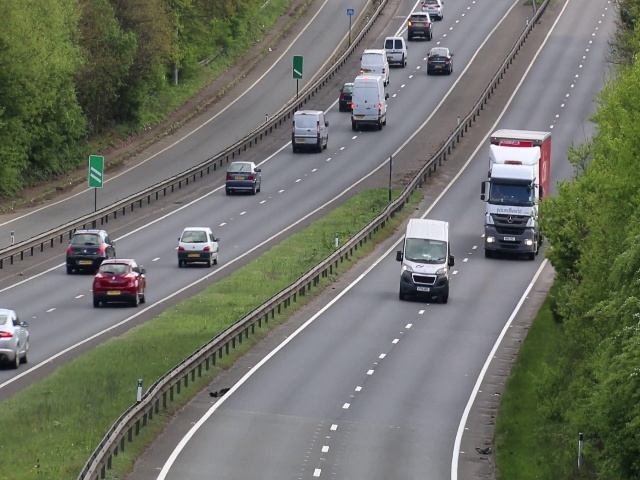car: (481, 128, 551, 262), (398, 215, 450, 307), (92, 259, 147, 310), (64, 229, 116, 273), (352, 75, 387, 132), (177, 225, 220, 267), (1, 308, 29, 366), (292, 109, 330, 151), (226, 161, 262, 196), (426, 46, 454, 76), (384, 36, 408, 70), (408, 12, 432, 42), (361, 49, 388, 75), (421, 1, 445, 20), (339, 82, 351, 113)
